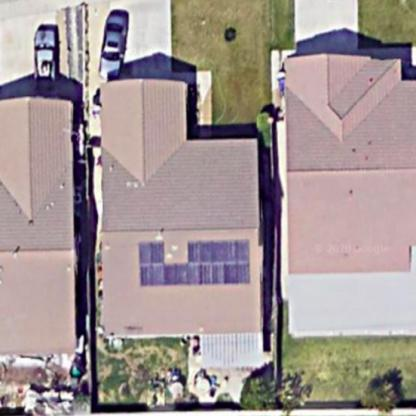car: (24, 15, 65, 102), (91, 1, 131, 81)
solar_panel: (136, 237, 253, 293)
